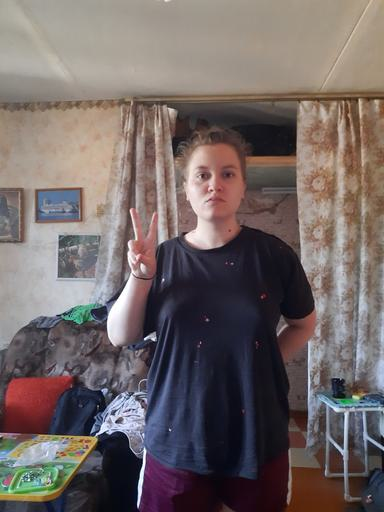peace: (124, 206, 161, 279)
